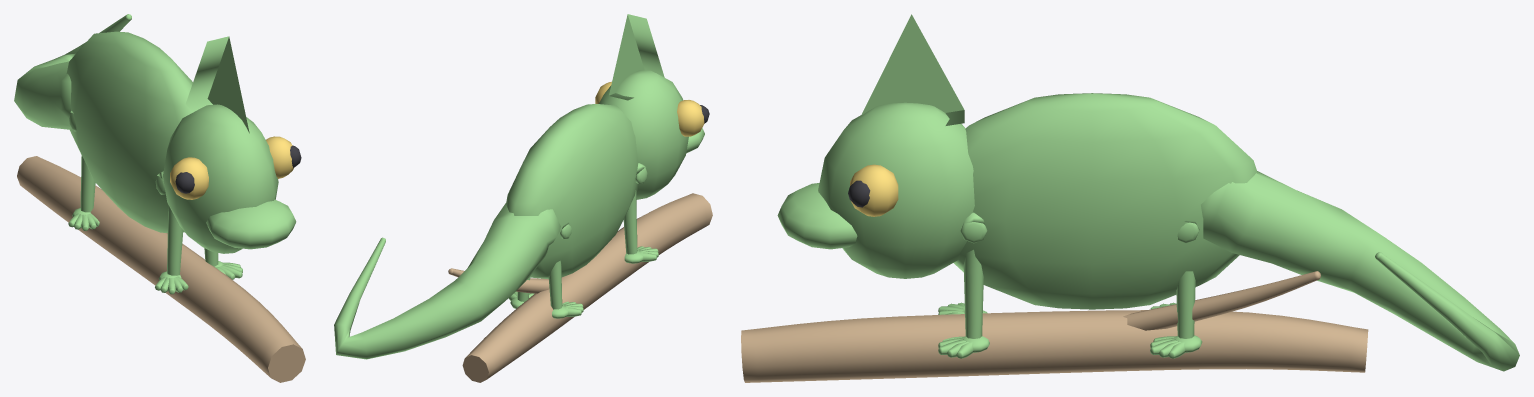
The model's file is chameleon.glb.
3 views of the same model, side by side, from view 1: azimuth 30°, elevation 25°; view 2: azimuth 150°, elevation 25°; view 3: azimuth 270°, elevation 25° (orthographic). The views are drawn at different scales.
Visible parts, largest first — view 1: veiled-chameleon-on-branch; view 2: veiled-chameleon-on-branch; view 3: veiled-chameleon-on-branch.
Boxes of the visible parts, x1,y1,x2,y2 form: veiled-chameleon-on-branch: (14,14,305,382); veiled-chameleon-on-branch: (334,14,712,382); veiled-chameleon-on-branch: (741,14,1519,382).
Size of the model in its own units: 0.1429 by 0.2288 by 0.45.
